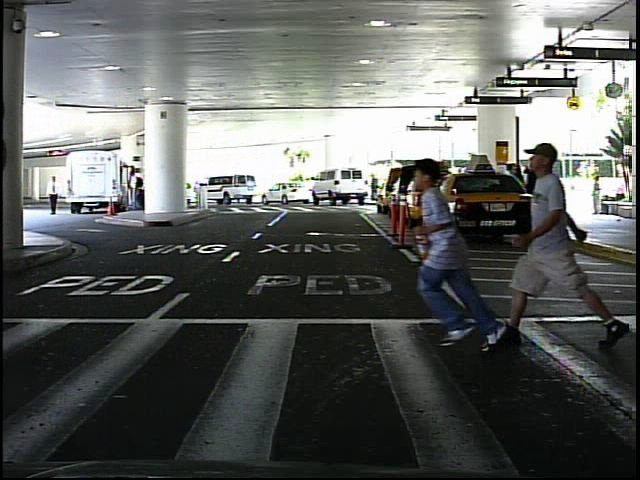person: (513, 120, 609, 356), (415, 154, 525, 356), (588, 172, 607, 218), (46, 173, 64, 217), (368, 172, 383, 203)
